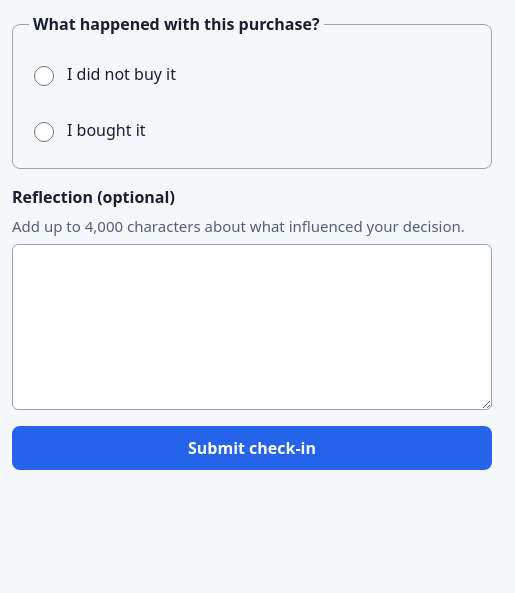
it: CheckInForm › preserves input and maps a backend comment error
The image size is (515, 593).
Click the radio button labelled "I bought it": [44, 132] box [34,122,54,142]
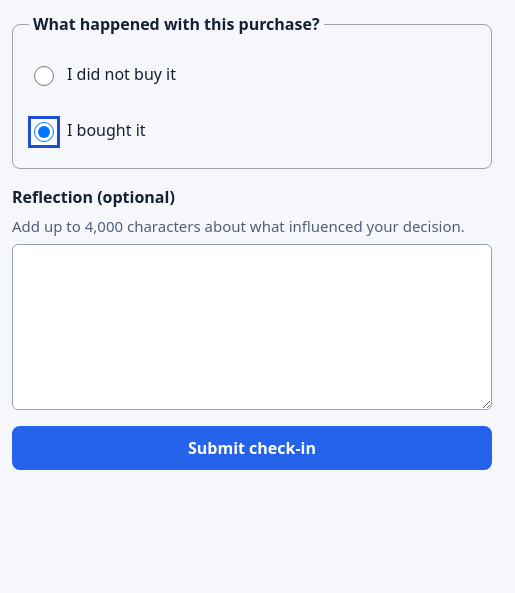
In the text box labelled "Reflection (optional)": [252, 326] box [12,244,492,410], type "My reflection"
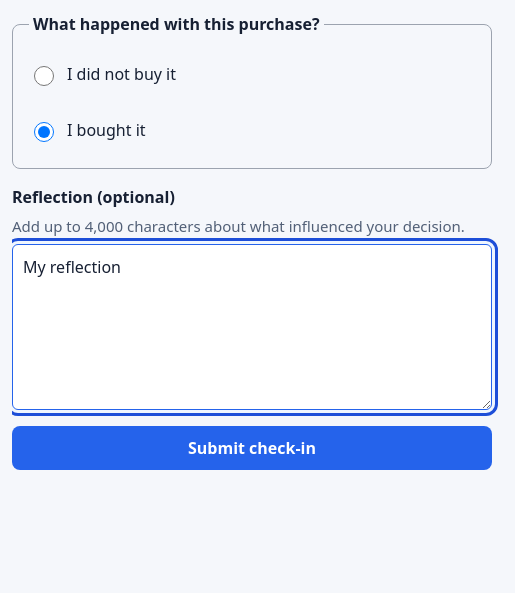
Click the button "Submit check-in": [252, 448] box [12,426,492,470]
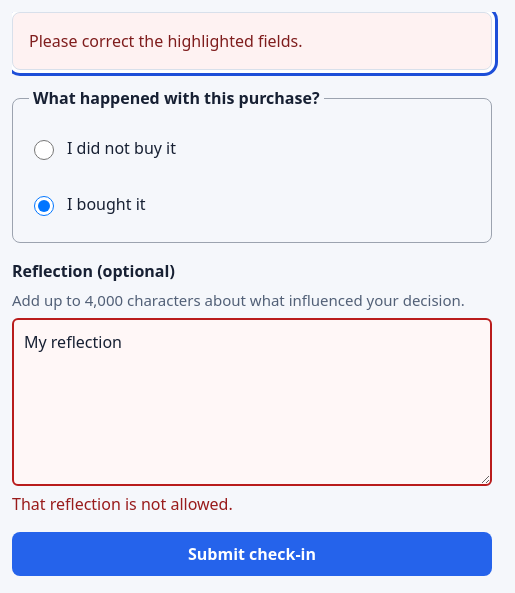
Check: the radio button labelled "I bought it" is checked, box [34,196,54,216]
Check: the text "That reflection is not allowed." is shown, box [12,492,233,514]
